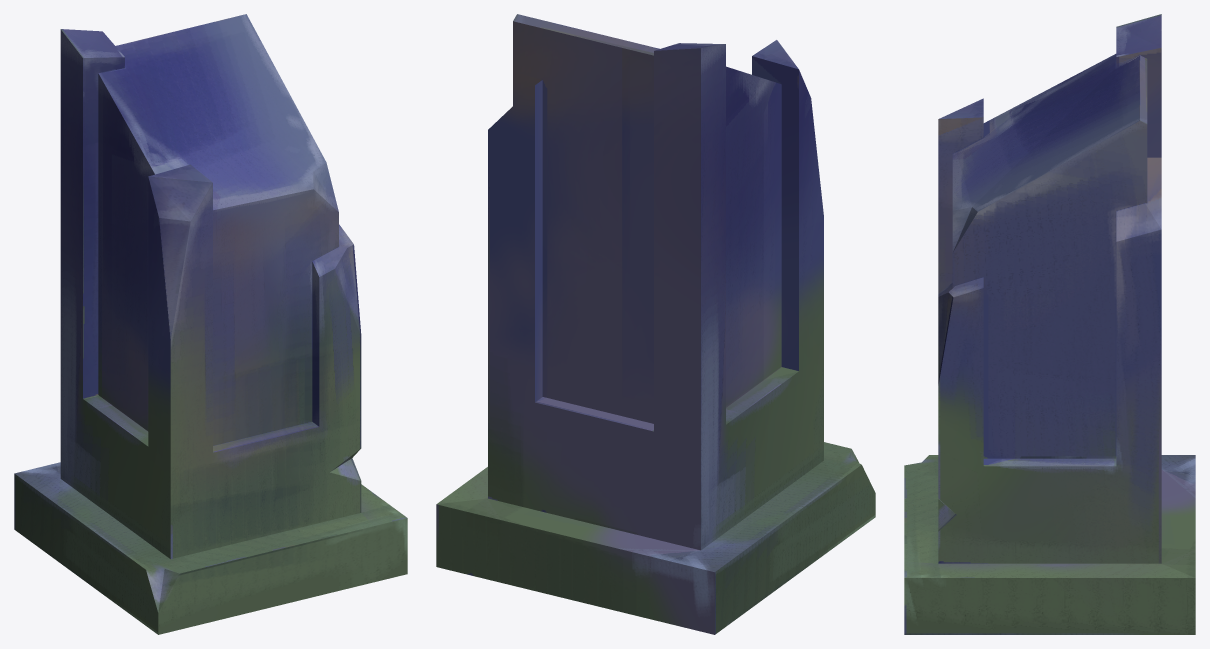
Rendered from broken_pilar_02textured.fbx.
3 renders of one model, left to right at view 1: azimuth 30°, elevation 25°; view 2: azimuth 150°, elevation 25°; view 3: azimuth 270°, elevation 25°, orthographic. The views are drawn at different scales.
Visible parts, largest first — view 1: Pillar_01.001; view 2: Pillar_01.001; view 3: Pillar_01.001.
Boxes of the visible parts, box(x1,y1,x2,y2) form: Pillar_01.001: box(14, 14, 407, 634); Pillar_01.001: box(436, 14, 875, 634); Pillar_01.001: box(904, 14, 1195, 634).
Size of the model in its own units: 103 by 199 by 103.
